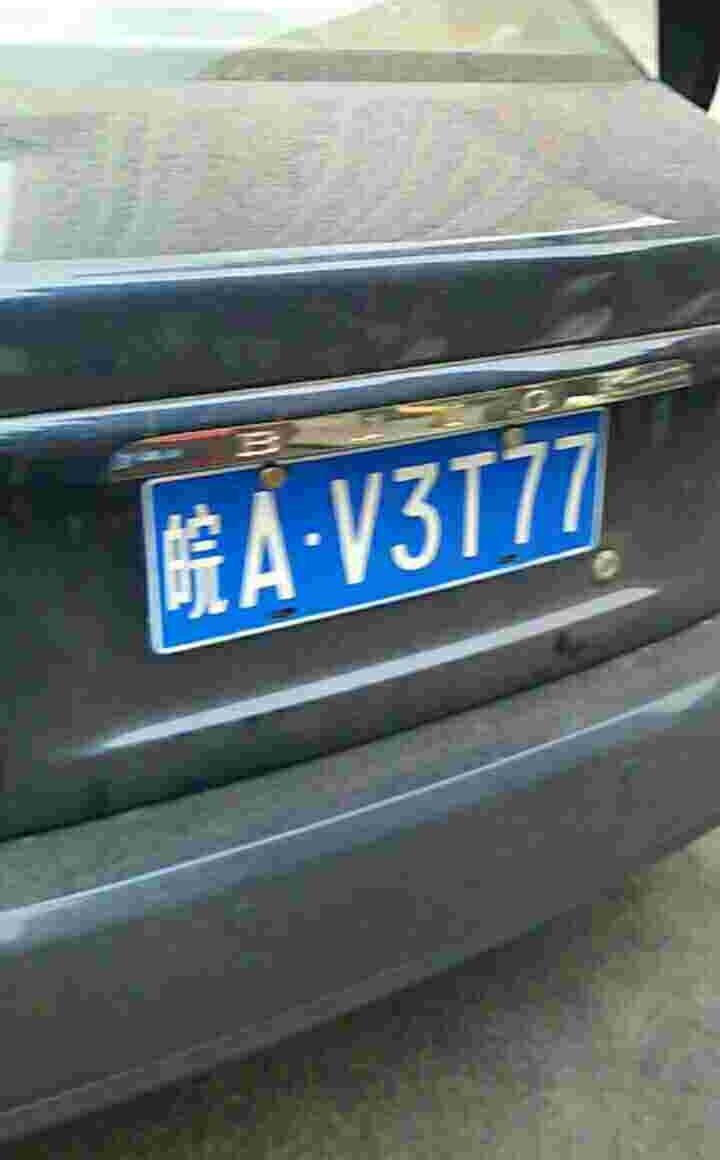car: (131, 455, 611, 577)
